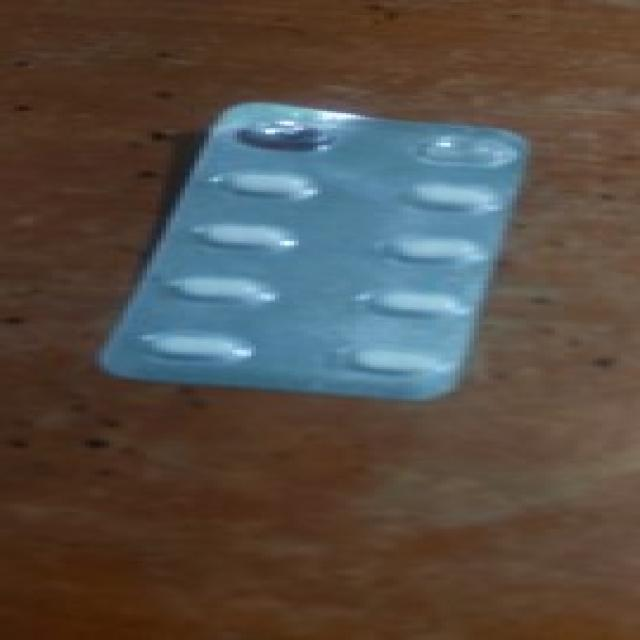Cacat: (91, 99, 531, 406)
Kemasan: (232, 112, 334, 160)
